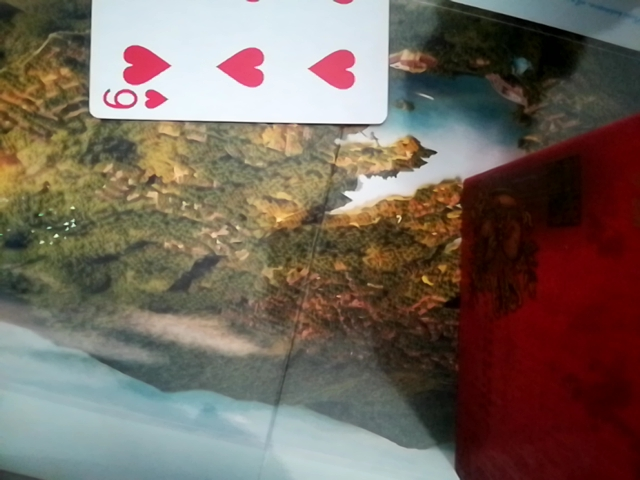hx 6: (79, 0, 393, 123)
